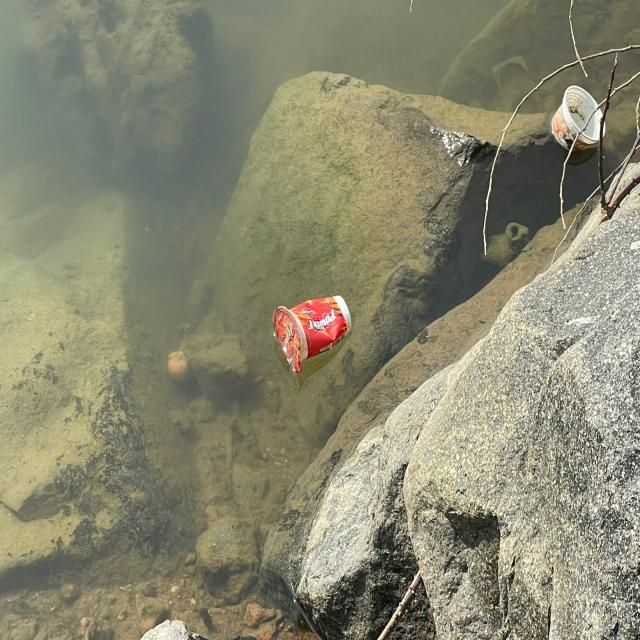Bungkus Makanan: (552, 81, 617, 161)
Bungkus Minuman: (272, 288, 358, 380)
